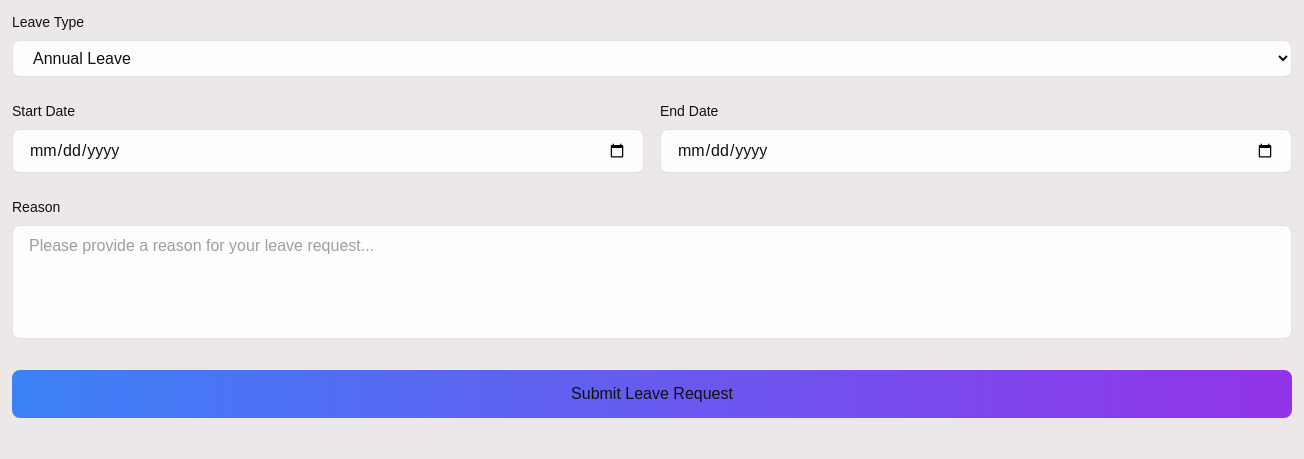
Scenario: LeaveRequestForm › Form Validation › should show error when end date is before start date
Type "2024-12-31" into the date field labelled "Start Date" at (328, 151), box [12, 129, 644, 173]
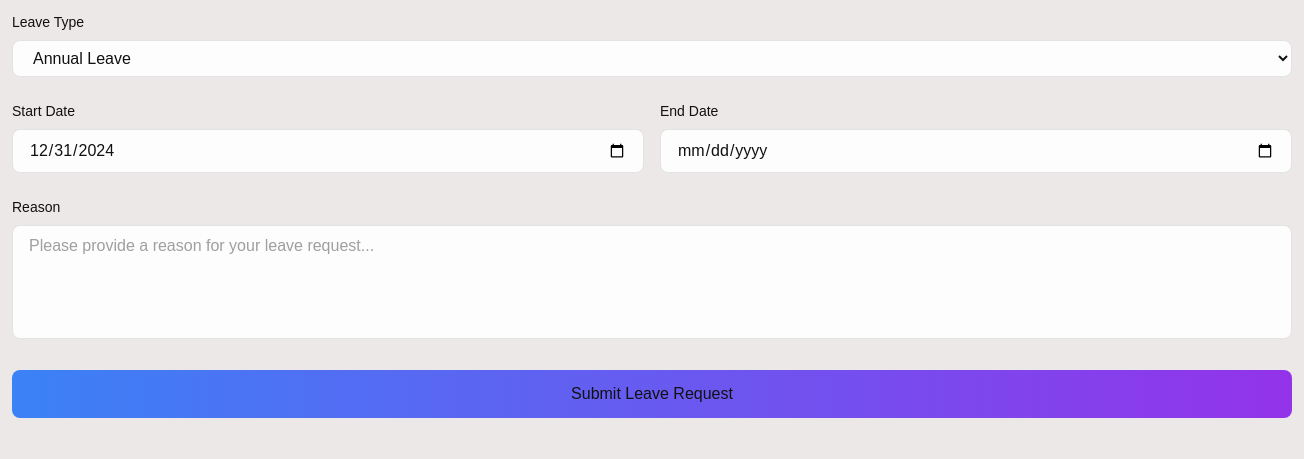
Type "2024-12-01" into the date field labelled "End Date" at (976, 151), box [660, 129, 1292, 173]
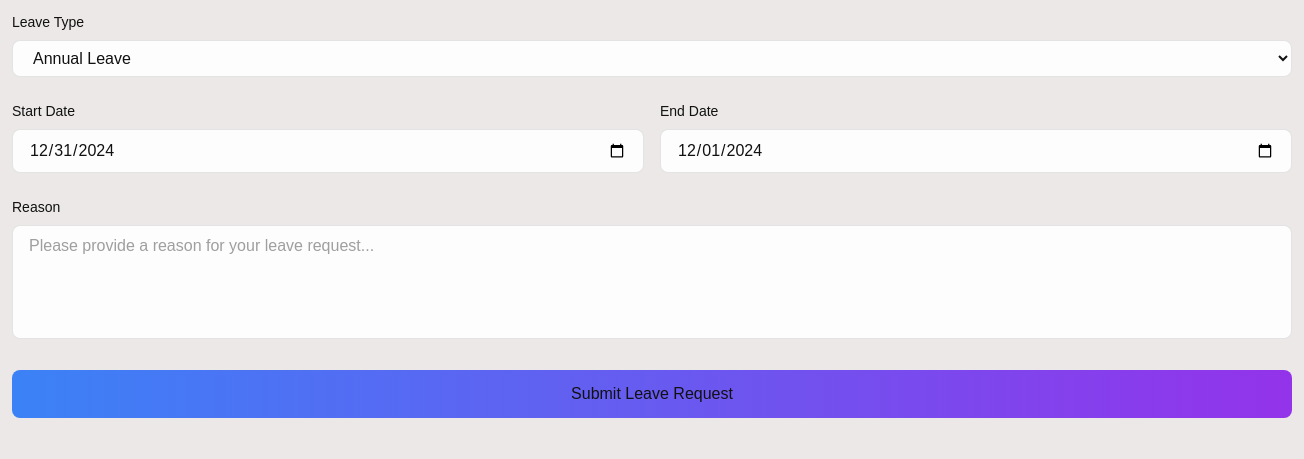
Type "Test reason" into the text box labelled "Reason" at (652, 282), box [12, 225, 1292, 339]
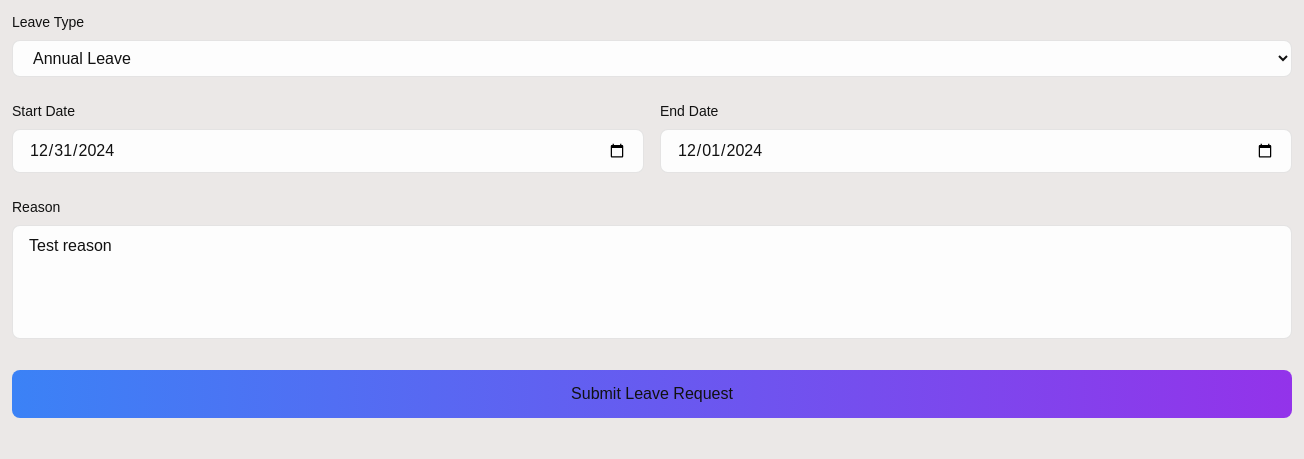
Click the button "Submit Leave Request" at (652, 394), box [12, 370, 1292, 418]
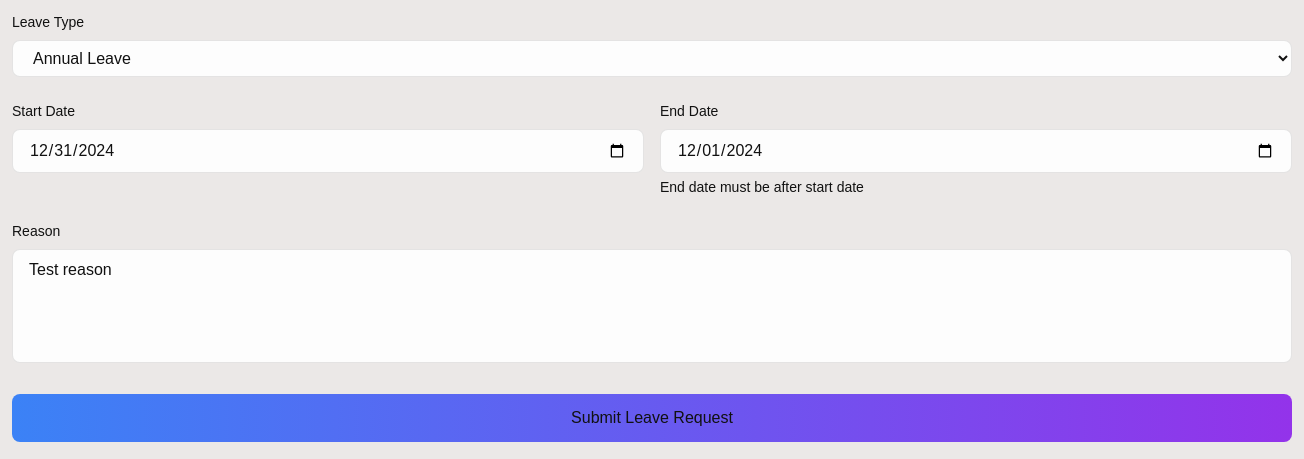
Check: the text "End date must be after start date" is shown, box [660, 179, 864, 195]
